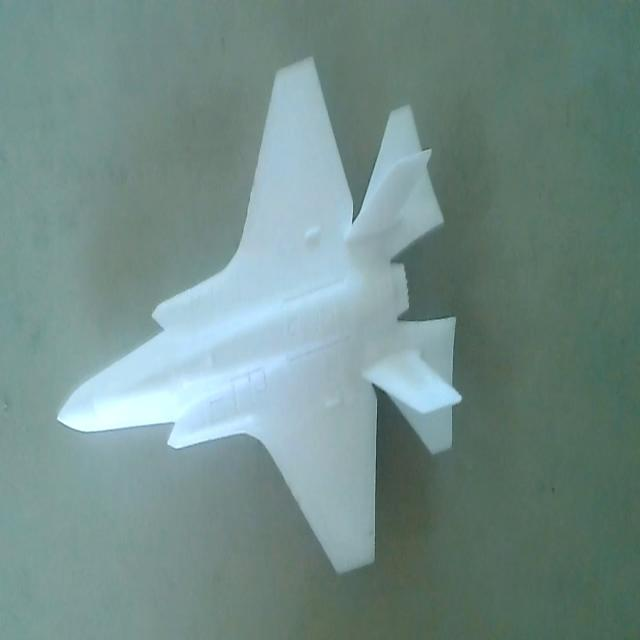Jet: (55, 52, 468, 588)
